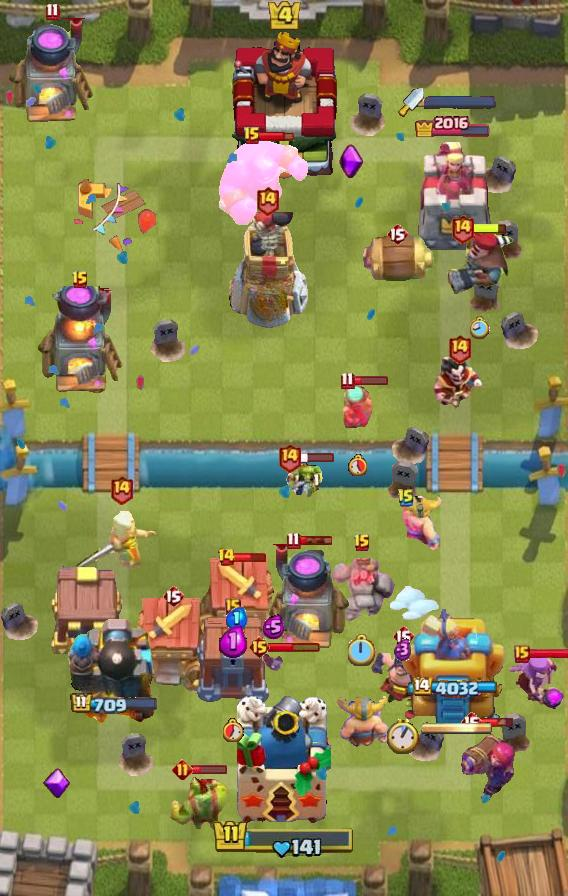bar: (401, 601, 505, 731), (412, 140, 494, 256)
barbarian-barrel: (261, 647, 285, 673)
bomb: (48, 563, 128, 657), (194, 618, 272, 704)
clock: (212, 818, 356, 860)
clone: (218, 138, 310, 228)
electro-spirit: (219, 626, 247, 658), (262, 614, 285, 640), (226, 606, 248, 630), (394, 638, 412, 661)
elixir: (387, 718, 419, 754), (348, 634, 376, 666), (224, 718, 245, 742), (470, 316, 490, 340), (349, 454, 368, 476)
emote: (268, 641, 321, 653), (528, 648, 568, 661), (472, 221, 508, 234), (191, 764, 228, 776), (299, 451, 335, 463), (258, 130, 293, 142), (481, 716, 516, 728), (351, 374, 388, 385), (298, 535, 334, 546), (233, 553, 267, 564)
flying-machine: (168, 775, 228, 829)
goblin-giant: (336, 696, 392, 750), (400, 494, 444, 550)
hunter: (7, 18, 97, 126), (261, 544, 351, 652), (36, 286, 124, 396)
king-tower: (222, 31, 346, 181), (237, 696, 331, 826)
king-tower-bar: (424, 95, 496, 109), (422, 721, 492, 735)
lumberjack: (433, 357, 485, 411)
mega-minion: (459, 726, 517, 804)
monk: (369, 636, 437, 706)
phoenix-small: (445, 228, 515, 296)
poison: (74, 501, 168, 573)
rascal-girl: (503, 651, 567, 713)
selected: (69, 692, 158, 716), (411, 677, 498, 699), (414, 113, 492, 137)
skeleton-king-skill: (338, 143, 364, 179), (43, 768, 71, 800)
sparky: (194, 557, 280, 655), (130, 597, 216, 695)
text: (449, 212, 474, 243), (447, 333, 472, 364), (277, 443, 302, 474), (110, 475, 135, 505), (256, 184, 280, 215), (248, 635, 271, 659), (386, 222, 408, 246), (162, 584, 184, 608), (392, 624, 414, 648), (460, 710, 482, 734), (172, 759, 193, 781), (216, 547, 235, 567), (243, 126, 261, 146), (71, 270, 89, 290), (397, 488, 415, 508), (353, 533, 371, 553), (225, 598, 241, 616), (514, 645, 530, 663), (287, 531, 302, 550), (44, 3, 59, 21), (341, 371, 355, 389)
the-log: (359, 235, 435, 285)
tower-bar: (67, 611, 161, 731)
valkyrie-evolution: (329, 558, 395, 624)
witch: (339, 384, 375, 432)
zap: (286, 458, 326, 498)
zappy: (225, 208, 311, 330)
